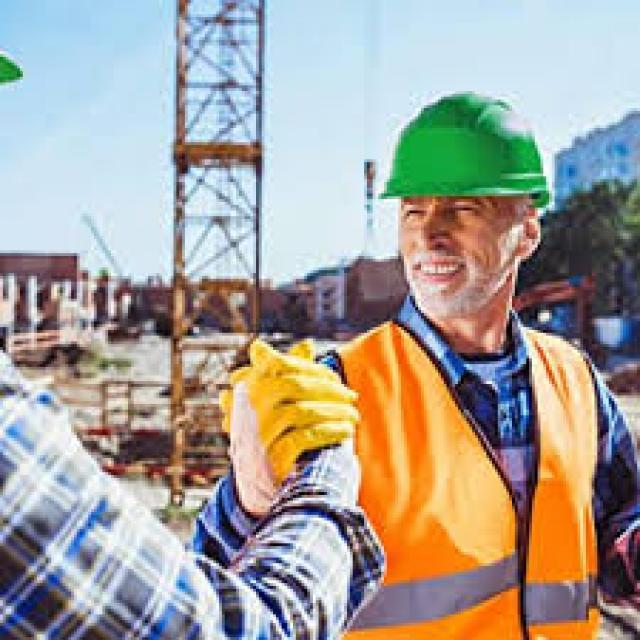safetyhelmet: (377, 80, 579, 298)
